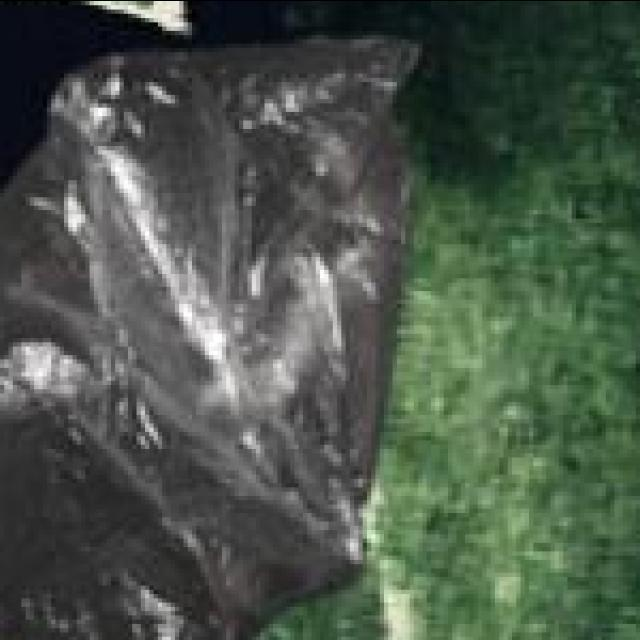Trashbag: (47, 77, 336, 605)
